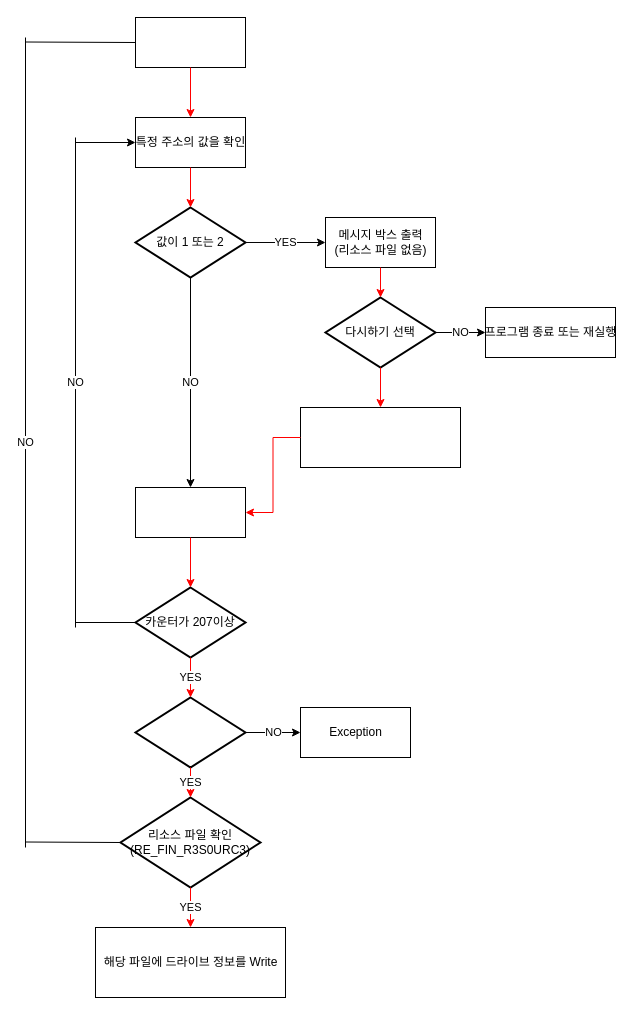
This 633x1015 diagram has some shape labels left out. The centre of each missing label's shape, as x and y in pixels:
"Final.exe 실행" goes at [190,42].
"누적 카운터 값 확인" goes at [190,512].
"메시지 박스 출력 후 카운터 증가" goes at [380,437].
"추가 조건 확인" goes at [190,732].
